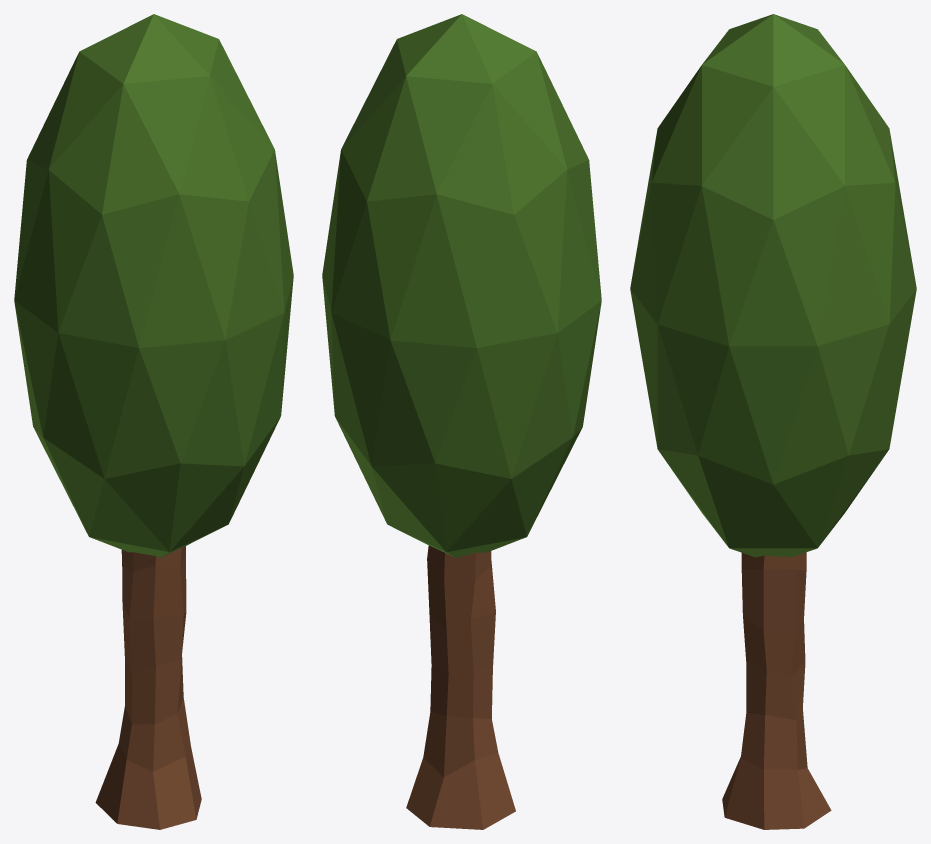
File: Tree4.obj
3 renders of one model, left to right at view 1: azimuth 30°, elevation 25°; view 2: azimuth 150°, elevation 25°; view 3: azimuth 270°, elevation 25°, orthographic.
Parts seen in each view (by area): view 1: drzewo.009; view 2: drzewo.009; view 3: drzewo.009.
Boxes of the visible parts, left/top/right/bottom form: drzewo.009: left=14, top=14, right=293, bottom=829; drzewo.009: left=322, top=14, right=601, bottom=829; drzewo.009: left=630, top=14, right=916, bottom=829.
Bounding box in the file's own units: 2.52 × 8.1 × 2.65.
